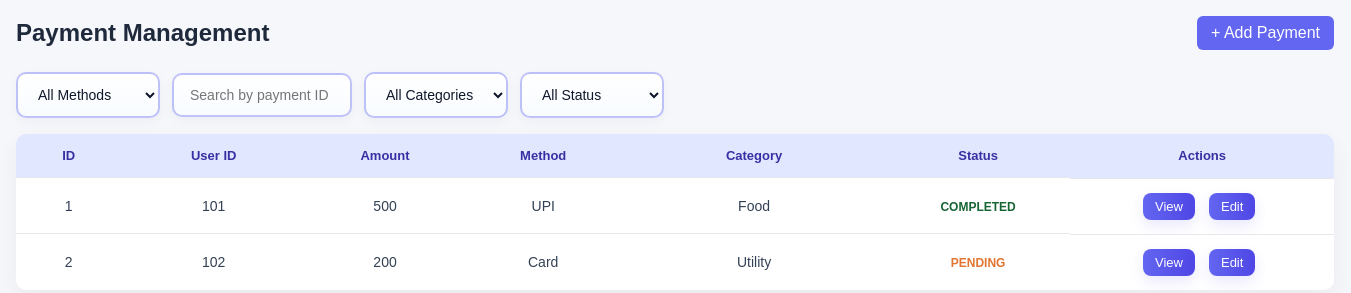
Test: PaymentList.vue › shows empty state when no payments match filter
The image size is (1351, 293).
In the field with class "id-input": [262, 95] box [172,73,352,117], type "999"
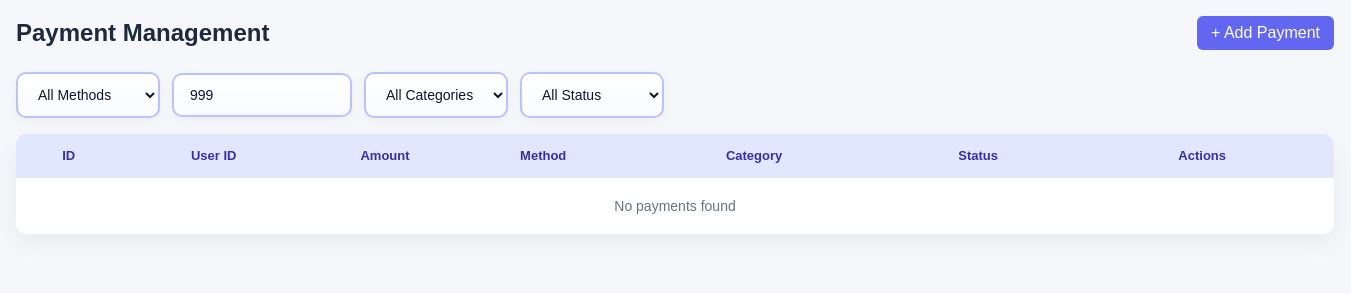
Check: the text "No payments found" is shown, box [16,178,1334,234]
